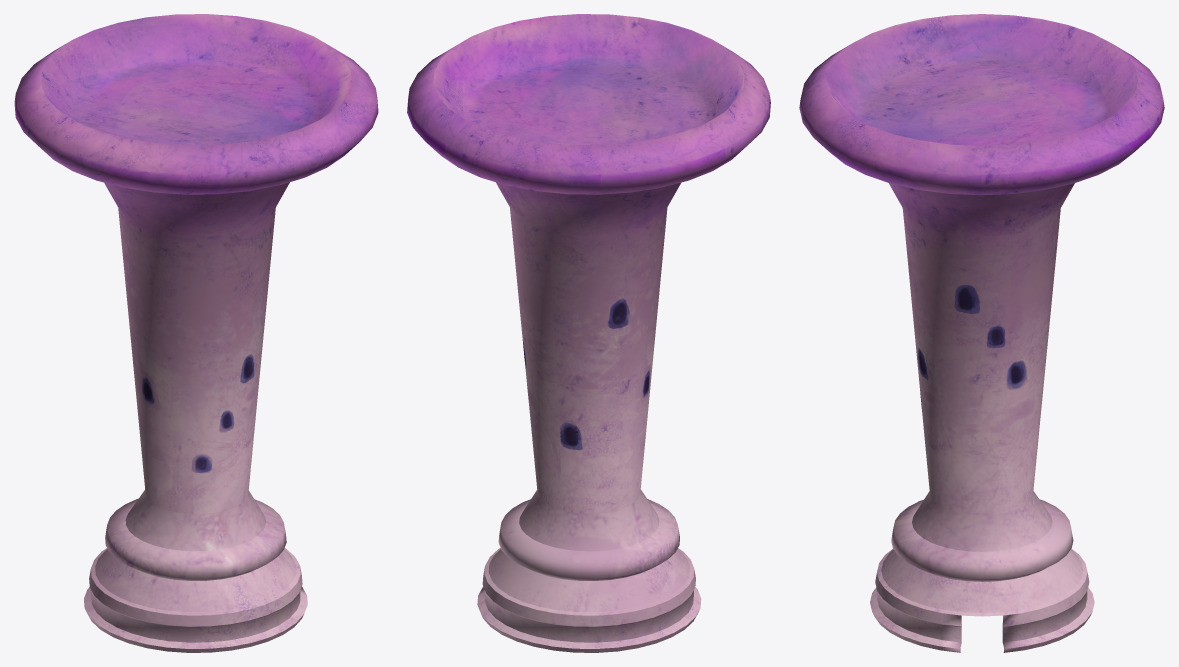
File: alien_dwelling_tall.fbx
The picture shows the model from 3 angles, left to right: view 1: azimuth 30°, elevation 25°; view 2: azimuth 150°, elevation 25°; view 3: azimuth 270°, elevation 25°; orthographic projection.
Visible parts, largest first — view 1: Dwelling 1; view 2: Dwelling 1; view 3: Dwelling 1.
Boxes of the visible parts, x1,y1,x2,y2 form: Dwelling 1: (14,14,378,652); Dwelling 1: (407,14,770,652); Dwelling 1: (799,14,1164,652).
Size of the model in its own units: 539 by 859 by 539.
